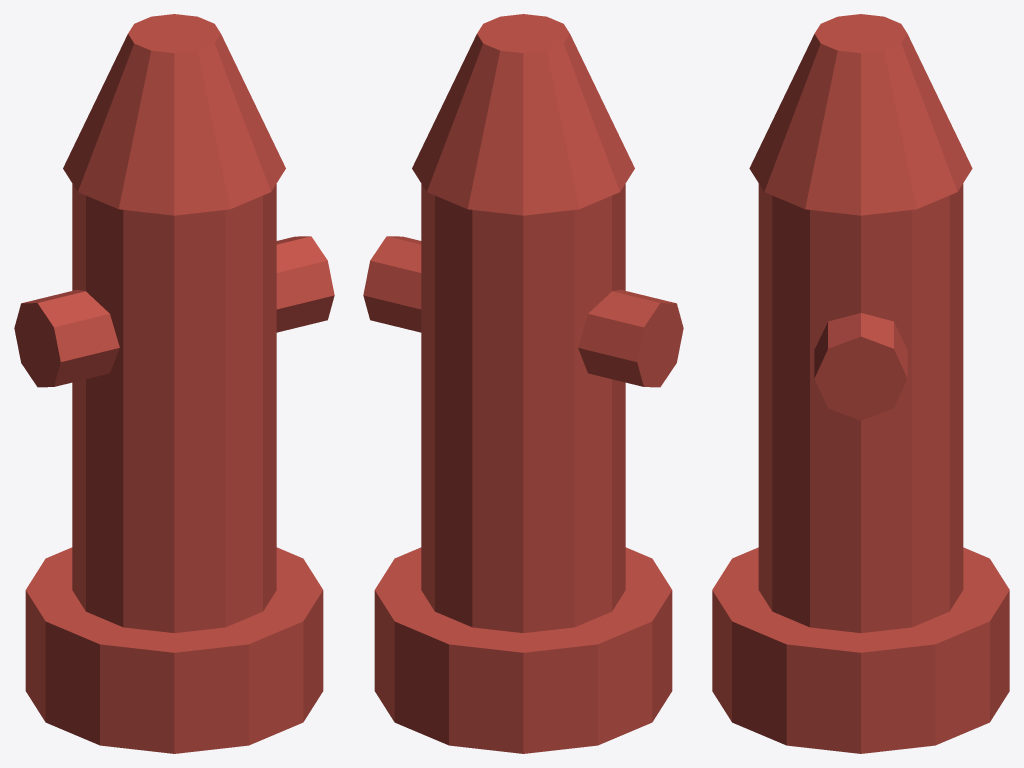
File: hydrant.glb
3 views of the same model, side by side, from view 1: azimuth 30°, elevation 25°; view 2: azimuth 150°, elevation 25°; view 3: azimuth 270°, elevation 25° (orthographic).
Visible parts, largest first — view 1: Hydrant; view 2: Hydrant; view 3: Hydrant.
Boxes of the visible parts, x1,y1,x2,y2 form: Hydrant: [14, 14, 334, 753]; Hydrant: [363, 14, 683, 753]; Hydrant: [712, 14, 1009, 753].
Bounding box in the file's own units: 0.34 × 0.78 × 0.32.
